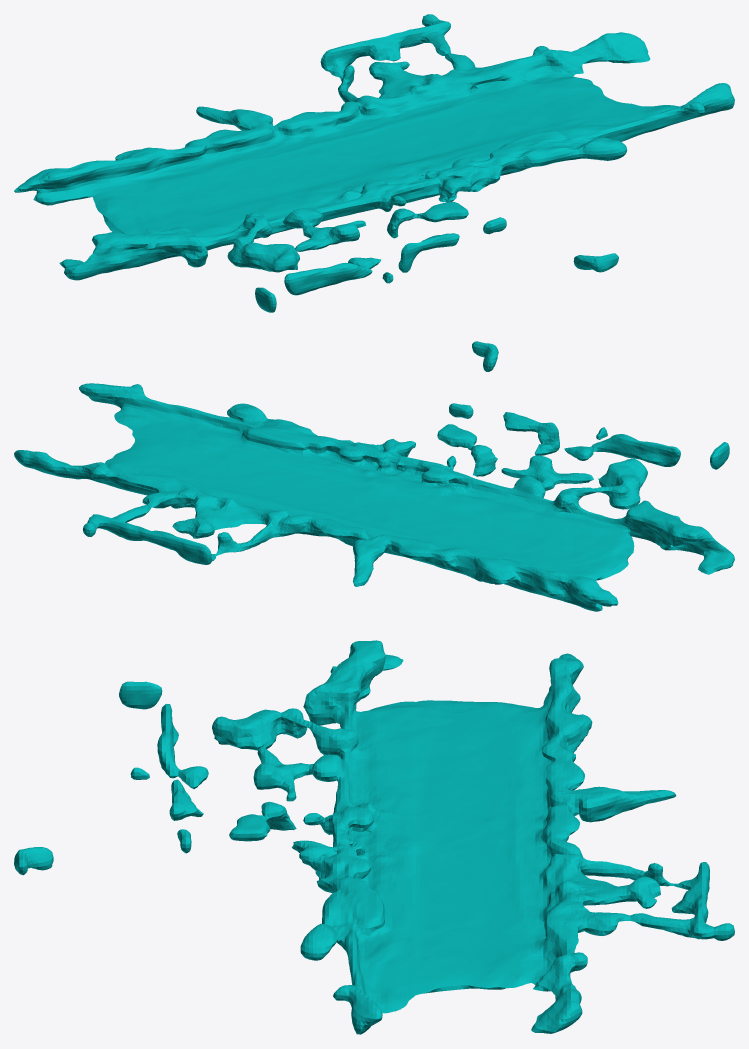
File: 1_kitti.glb
The picture shows the model from 3 angles, top to bottom: view 1: azimuth 30°, elevation 25°; view 2: azimuth 150°, elevation 25°; view 3: azimuth 270°, elevation 25°; orthographic projection. The views are drawn at different scales.
Size of the model in its own units: 159 by 7.57 by 123.
